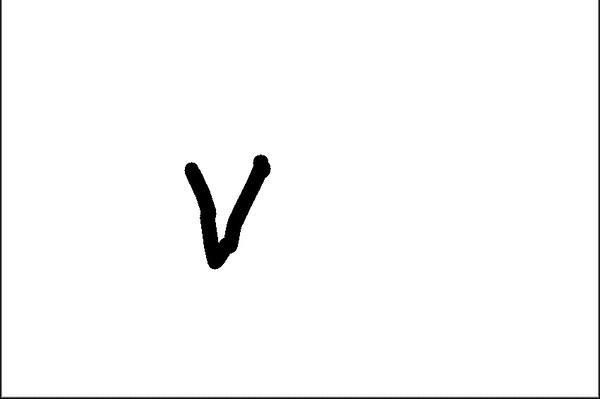V: (180, 140, 271, 291)
